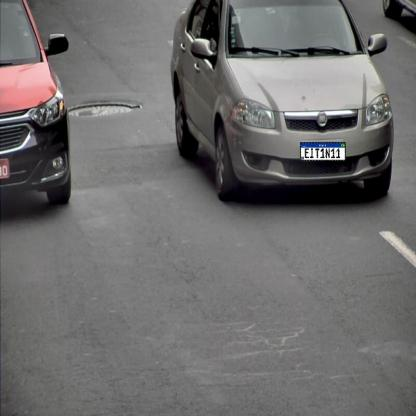PlacaM: (300, 142, 346, 161)
